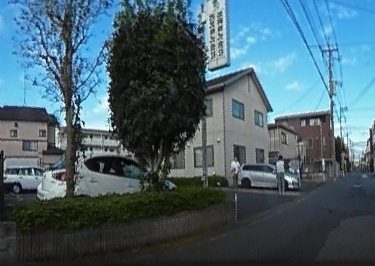person: (276, 153, 285, 196), (229, 152, 240, 186)
